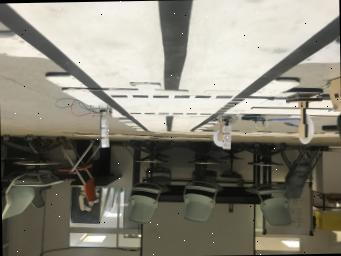traffic_light: (89, 104, 112, 147), (89, 104, 112, 147), (89, 104, 112, 147), (89, 104, 112, 147), (89, 104, 112, 147), (222, 122, 231, 149), (222, 122, 231, 149), (222, 122, 231, 149), (222, 122, 231, 149), (222, 122, 231, 149)
